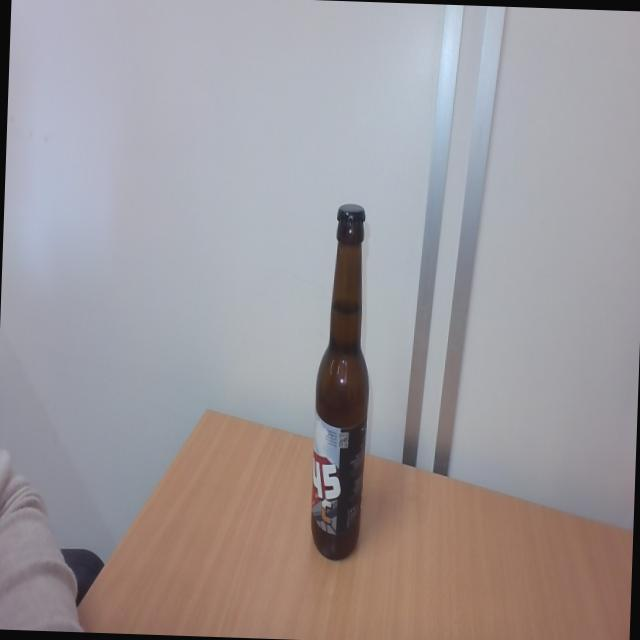Bottle: (309, 227, 376, 562)
Cap: (333, 200, 367, 228)
Label: (310, 416, 368, 534)
